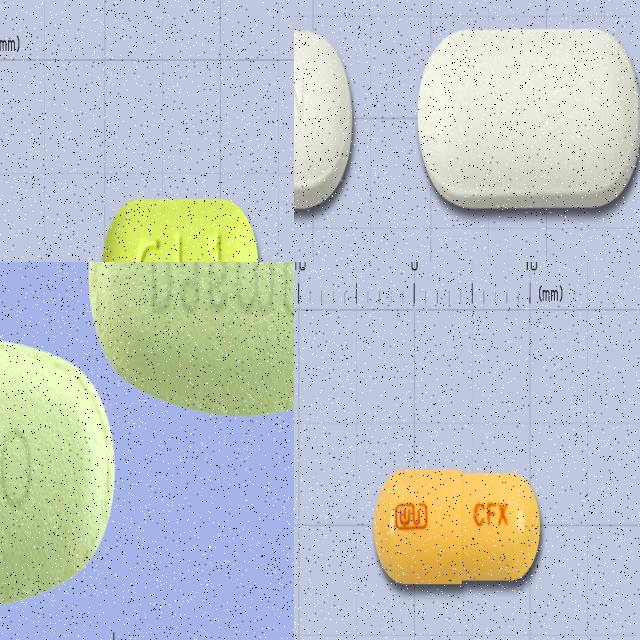Cefixime Cap- Withus: (372, 464, 546, 596)
Ciproctan: (413, 23, 640, 216), (294, 20, 360, 218)
Clasin: (86, 262, 294, 423), (0, 332, 115, 608)
Clearmycin: (101, 197, 259, 262)
